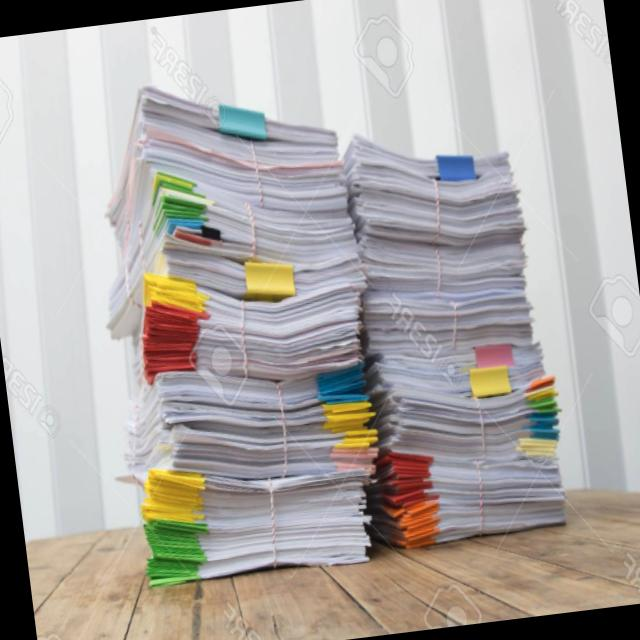KertasBekas: (77, 38, 576, 590), (325, 110, 575, 552)
